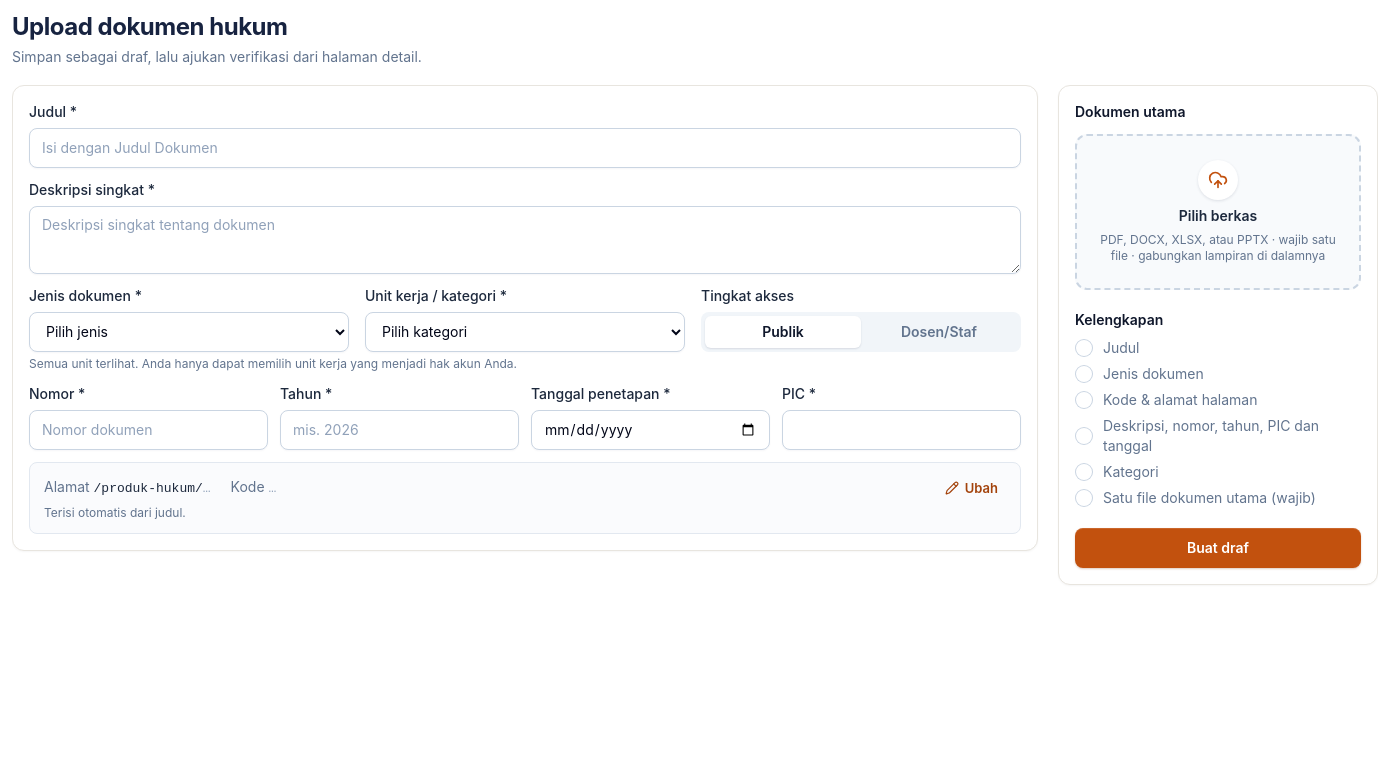
Test: pengajuan dokumen pada panel › form tidak menyimpan data atau membuka konfirmasi sebelum seluruh isian dan file lengkap
The width and height of the screenshot is (1378, 780).
What coordinates should you click on to do the following:
click the button "Buat draf"
I would click on:
 (1218, 548)
Its box is x1=1075 y1=528 x2=1361 y2=568.
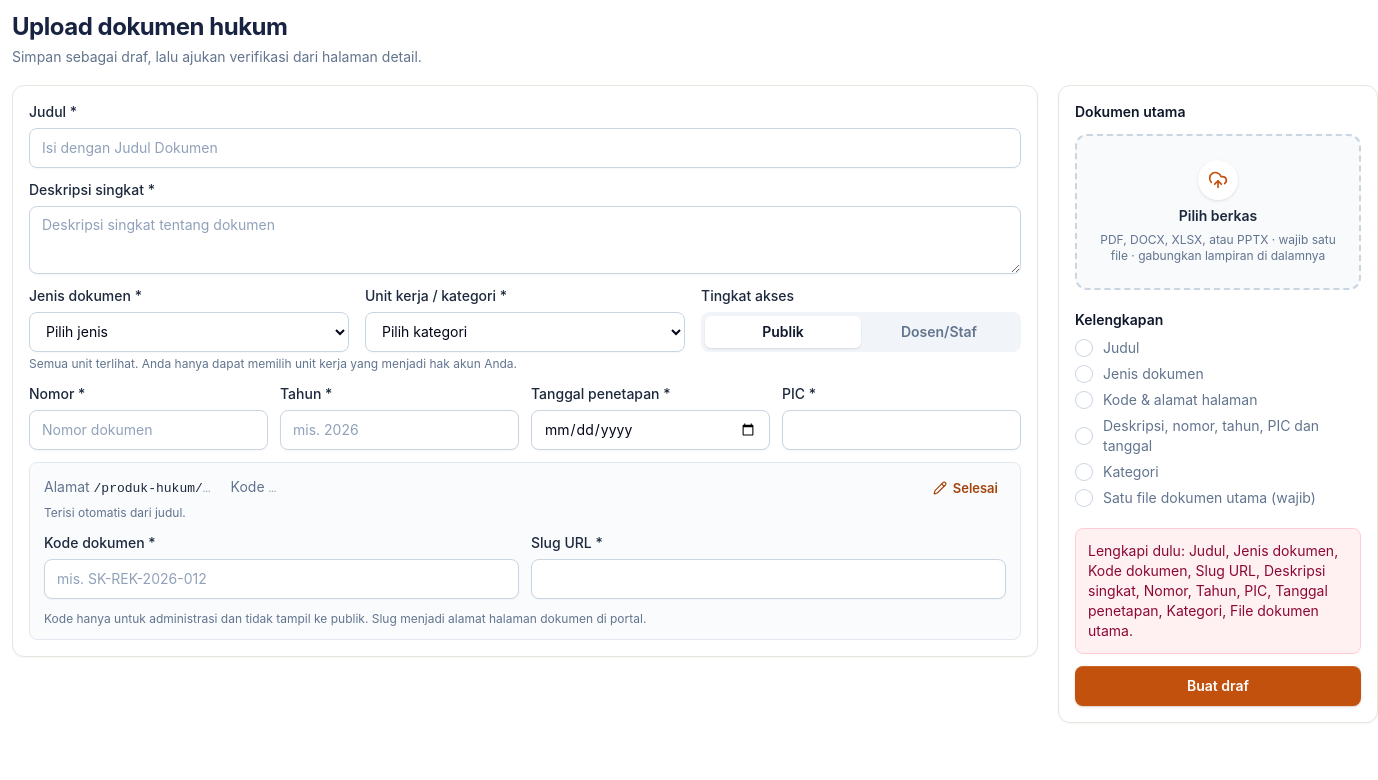
Expected: the message shows "File dokumen utama", x1=1088 y1=542 x2=1338 y2=639
Expected: the message shows "Deskripsi singkat", x1=1088 y1=542 x2=1338 y2=639
